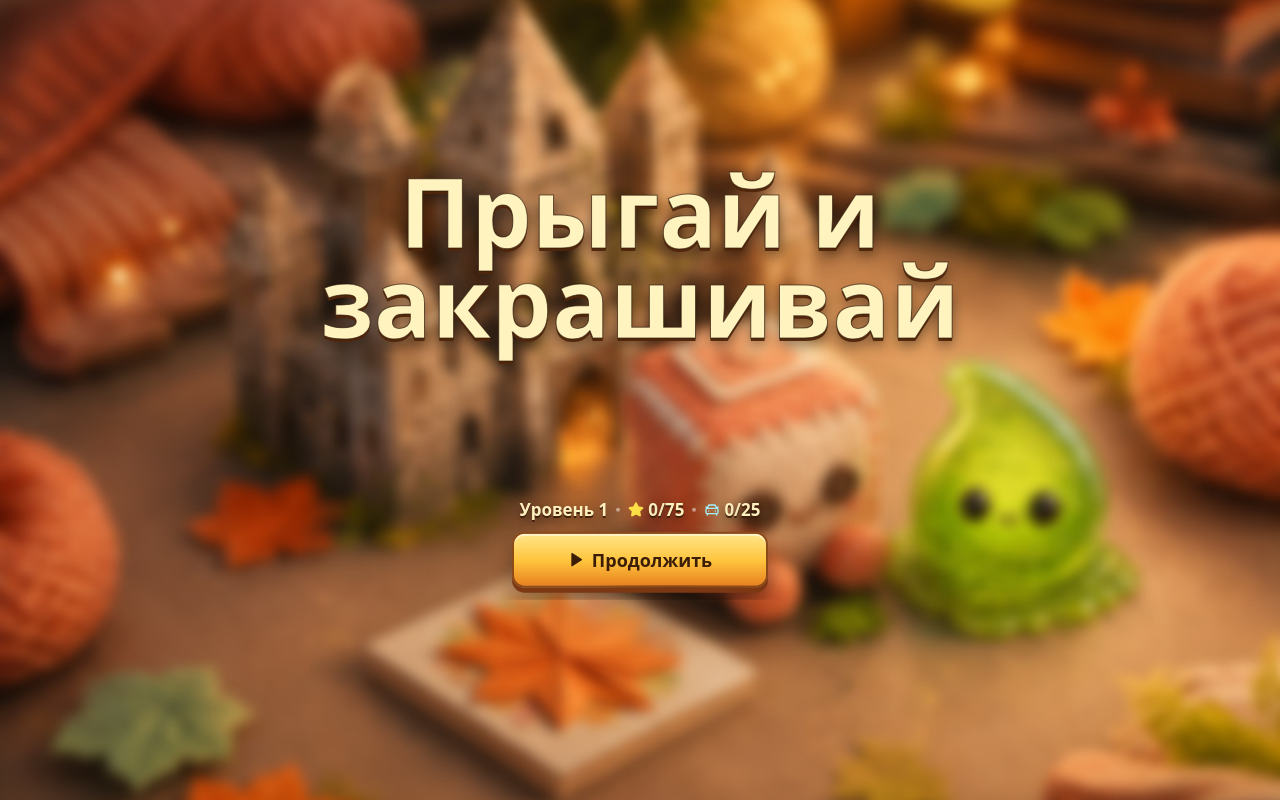
Scenario: GameCanvas yandex lifecycle › keeps the mobile joystick hidden until the first scene is renderable
Expected: the text "Уровень 1 / 25" is shown, left=57, top=103, right=188, bottom=121
Step 1. Click the button "Продолжить" → (640, 559), box left=512, top=531, right=768, bottom=587
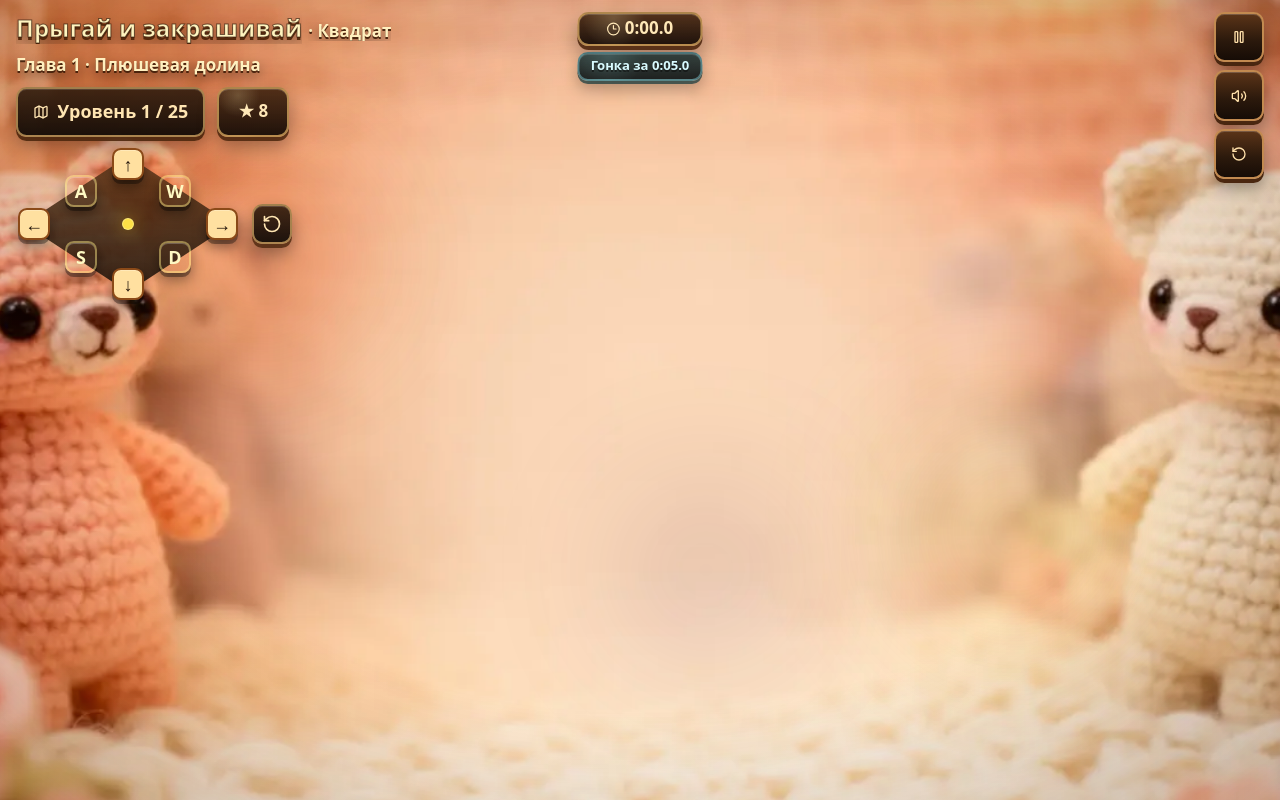
Expected: the element with test id "start-screen" is gone
